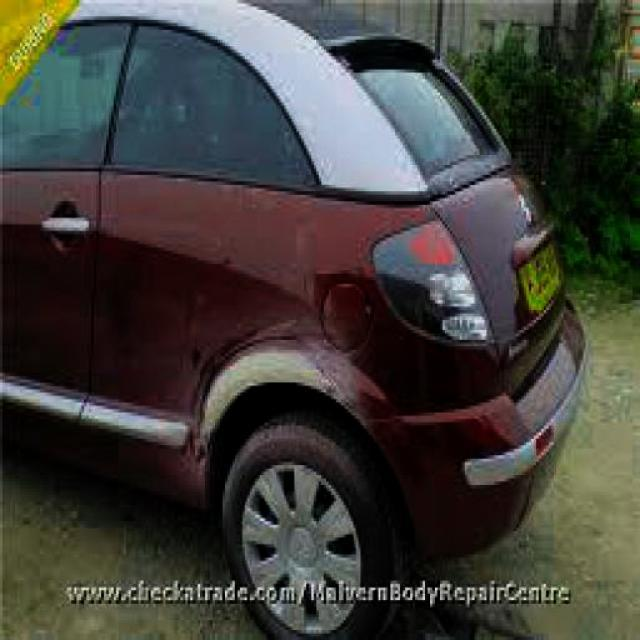car damage: (191, 317, 387, 468)
